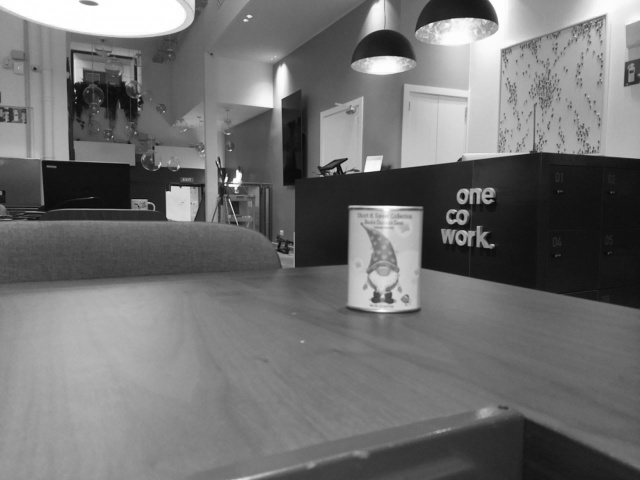gnome: (355, 221, 413, 307)
